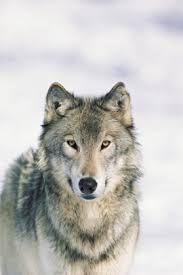Lobo: (8, 80, 149, 240)
